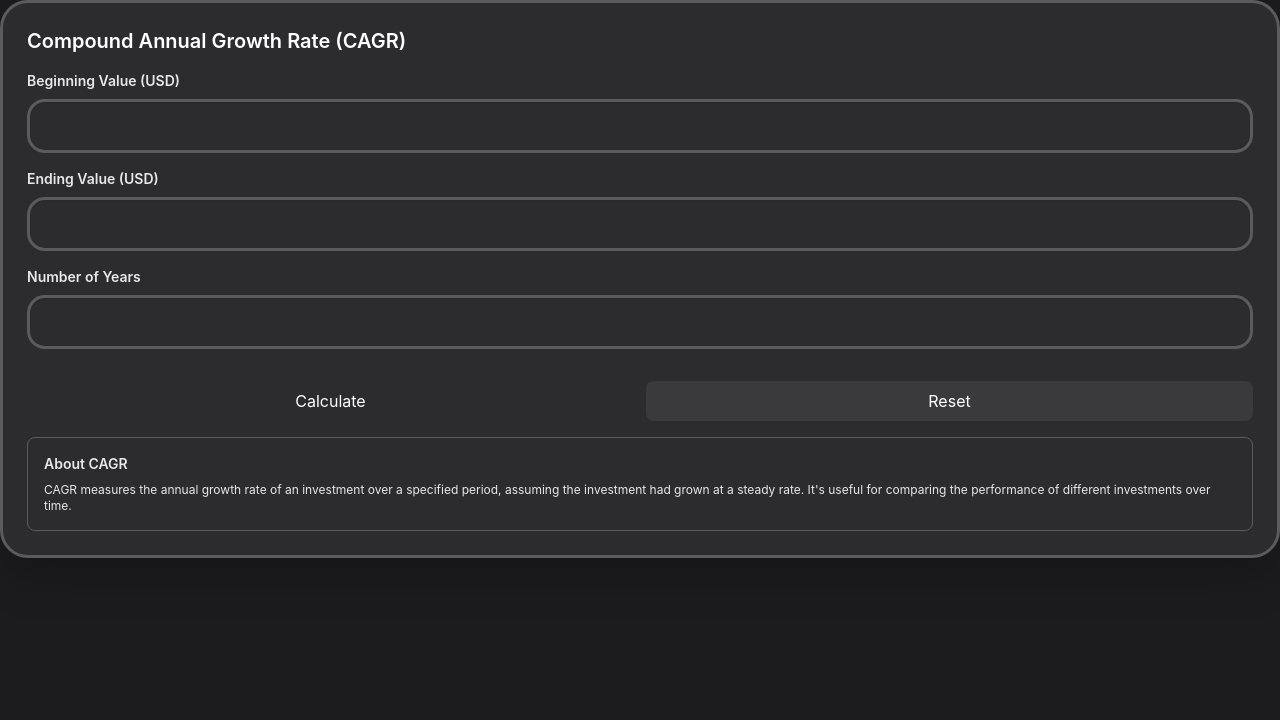
Scenario: CAGRCalculator › shows validation error when beginning value is missing
The image size is (1280, 720).
Type "2000" into the field labelled "Ending Value (USD)" at (640, 224), box [27,197,1253,251]
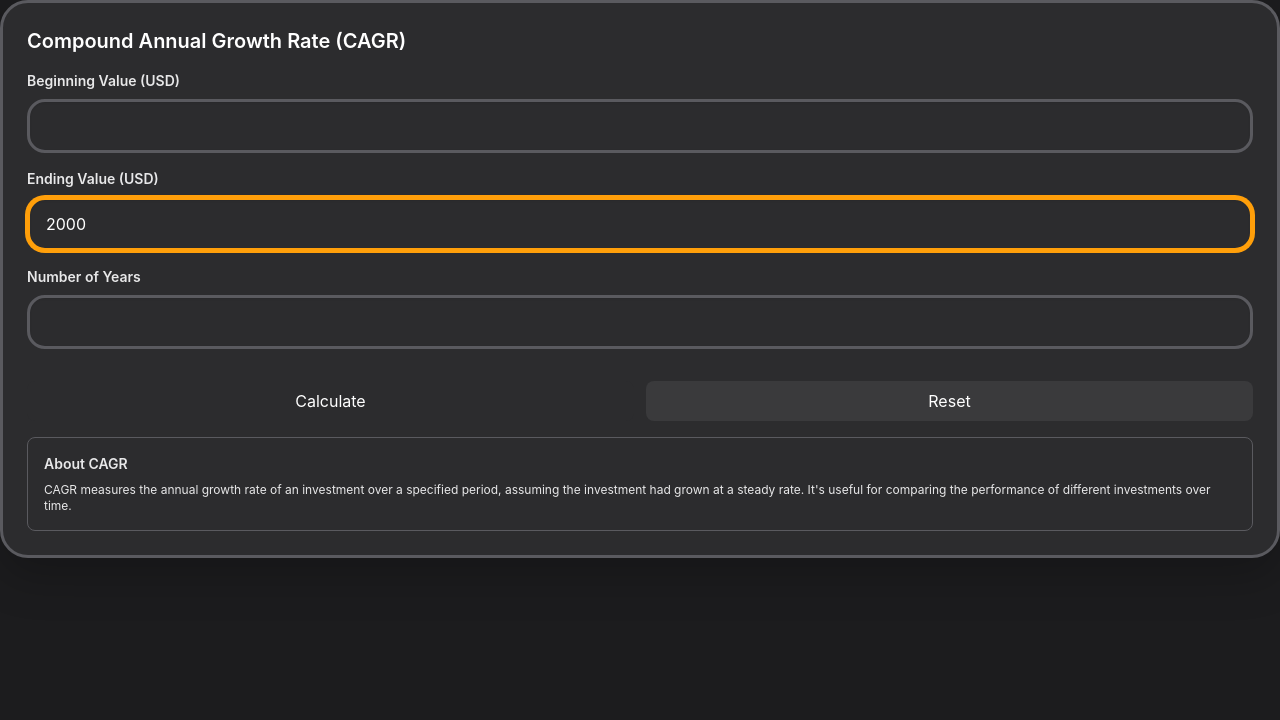
Type "10" into the field labelled "Number of Years" at (640, 322), box [27,295,1253,349]
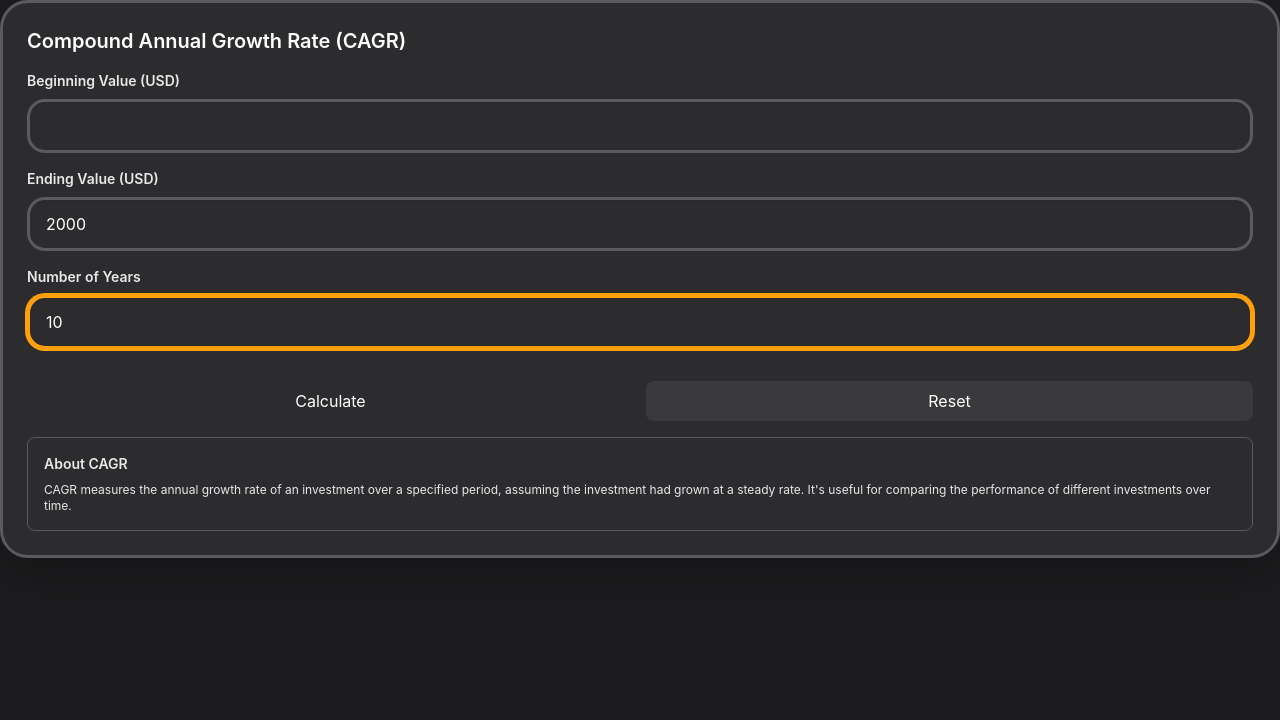
Click the button "Calculate" at (330, 401), box [27,381,634,421]
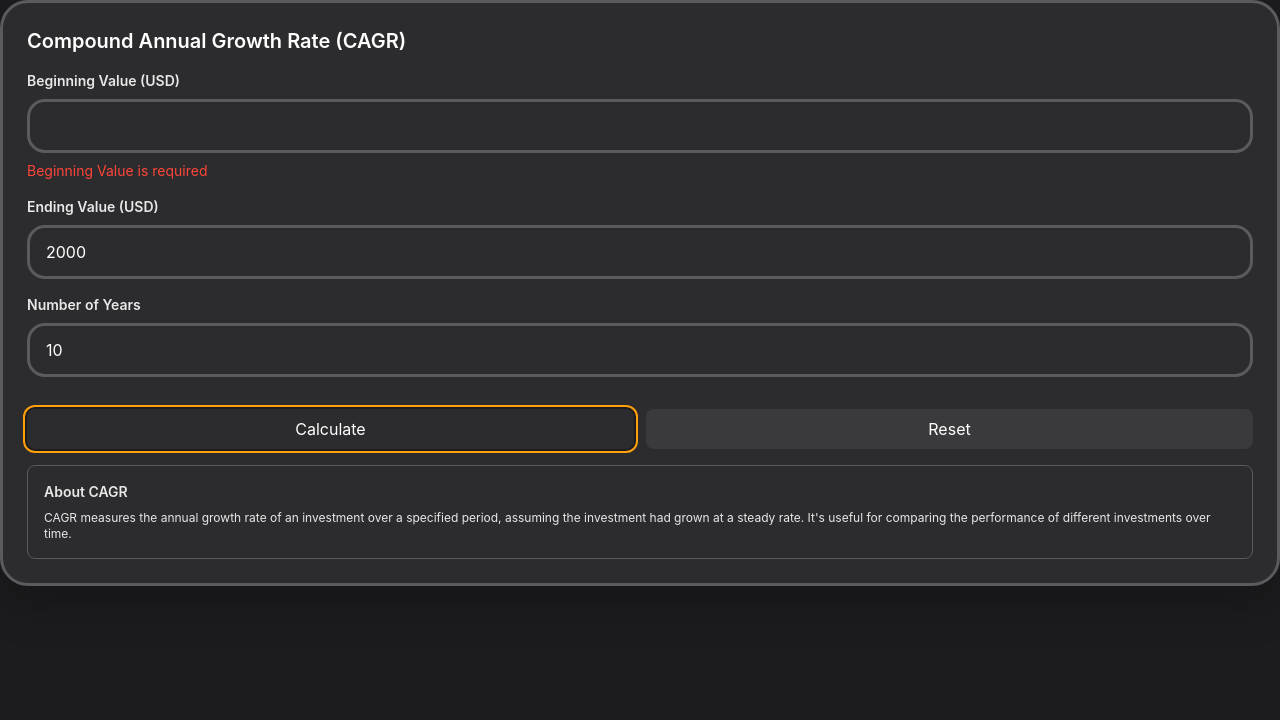
Result: the text "Beginning Value is required" is shown at [27,162,208,179]
